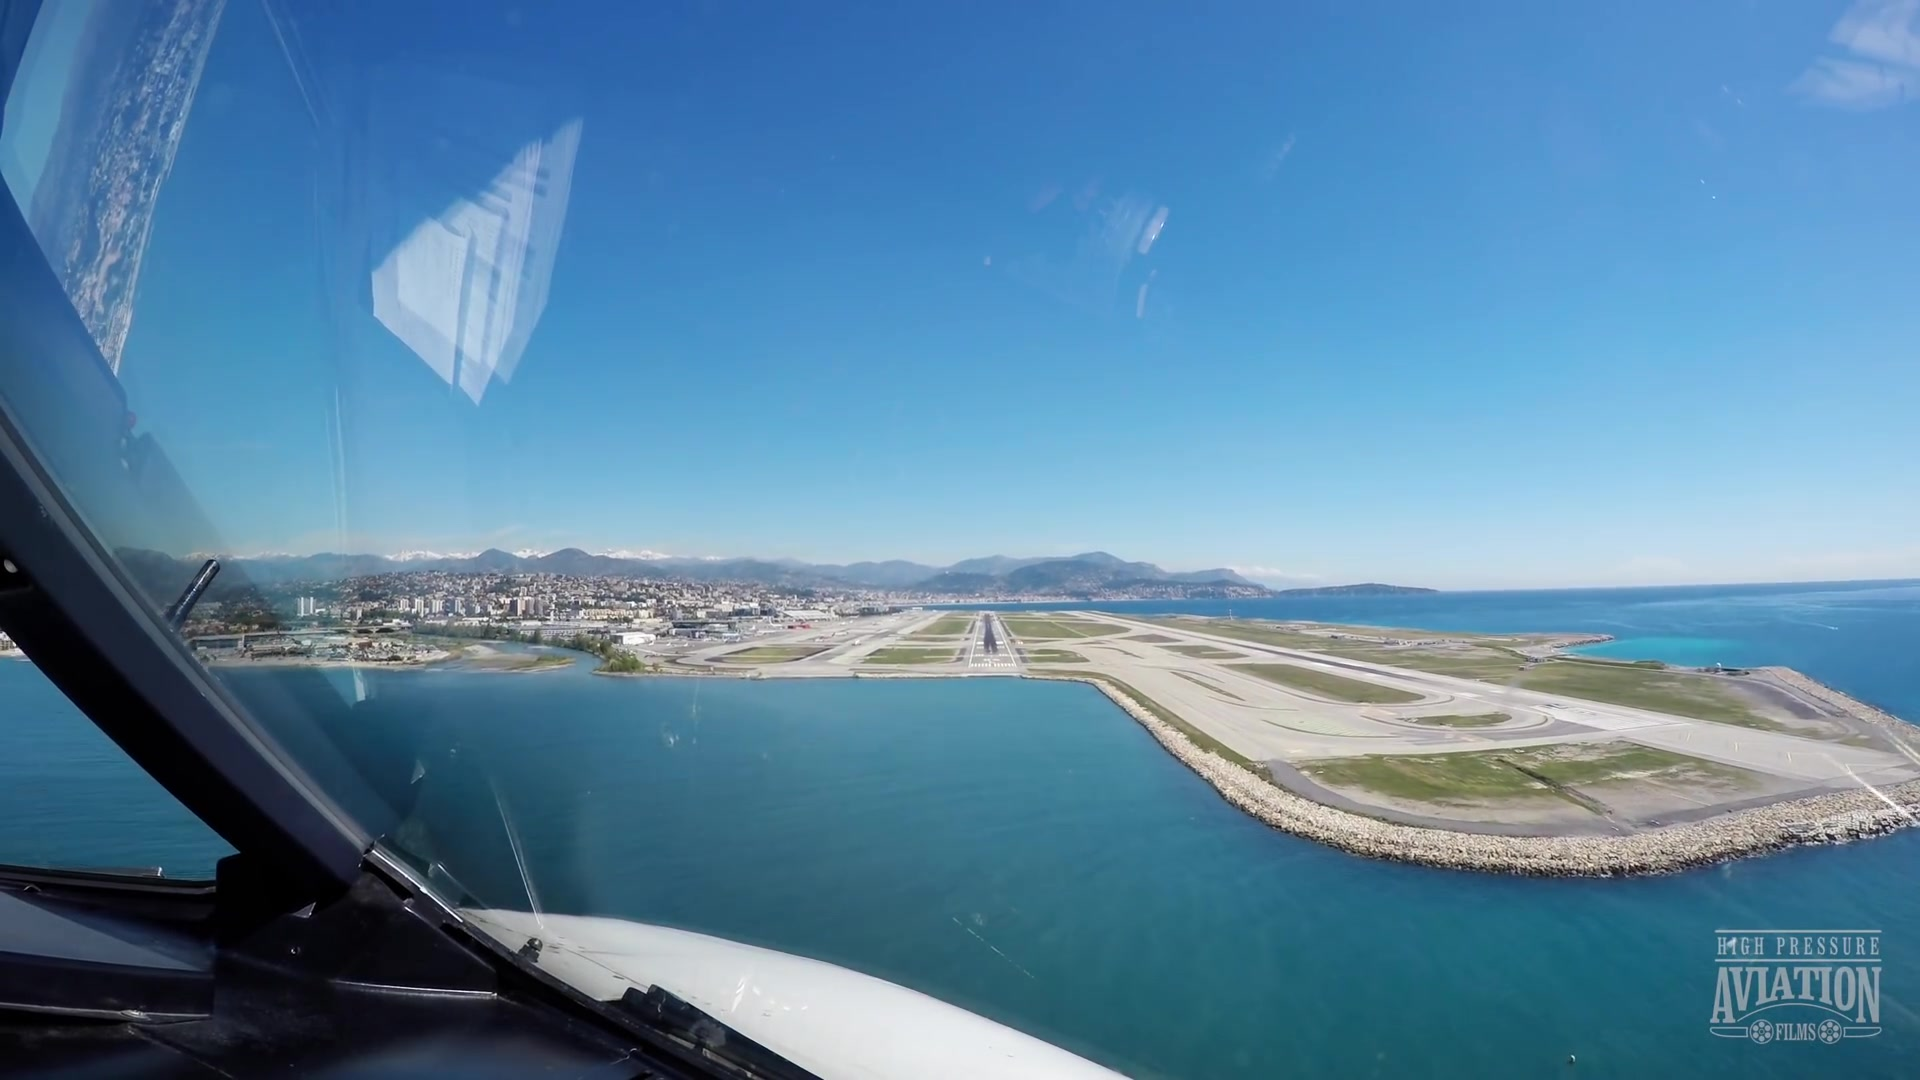entrance: (968, 659, 1015, 669)
runway: (964, 611, 1018, 673)
